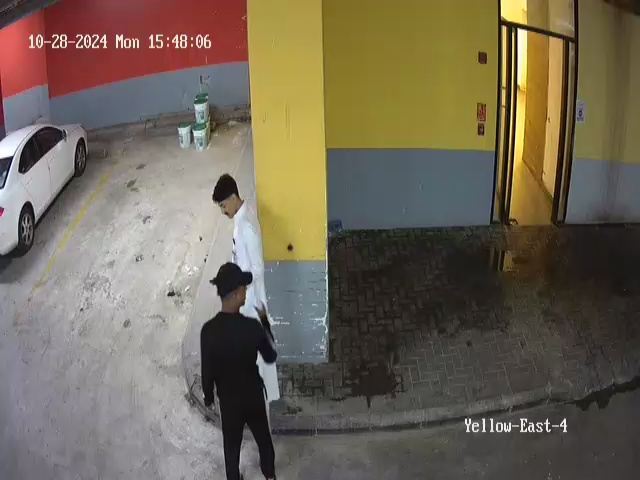male: (200, 262, 280, 480), (212, 174, 268, 318)
